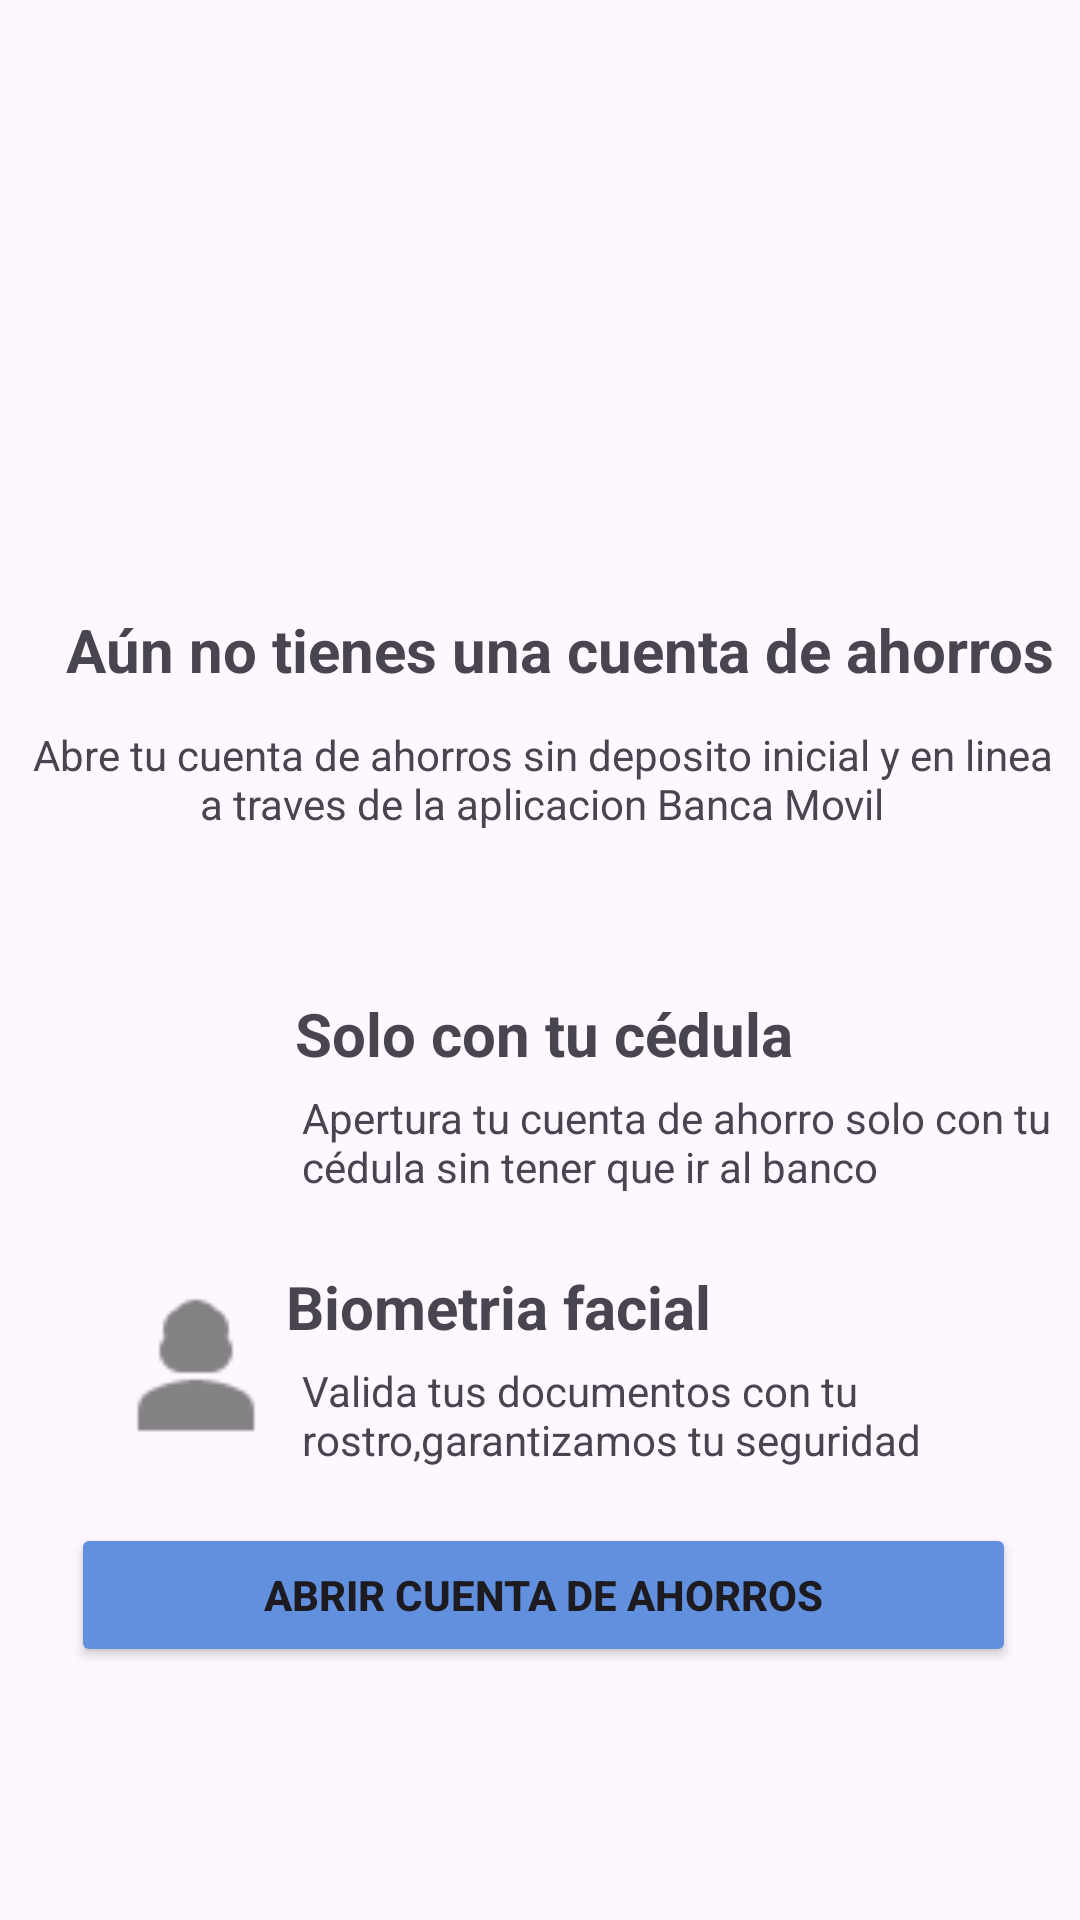

Named icons in this screenshot (1080px×1920px) and their centers, (x=x, y=y):
personita: (x=196, y=1365)
